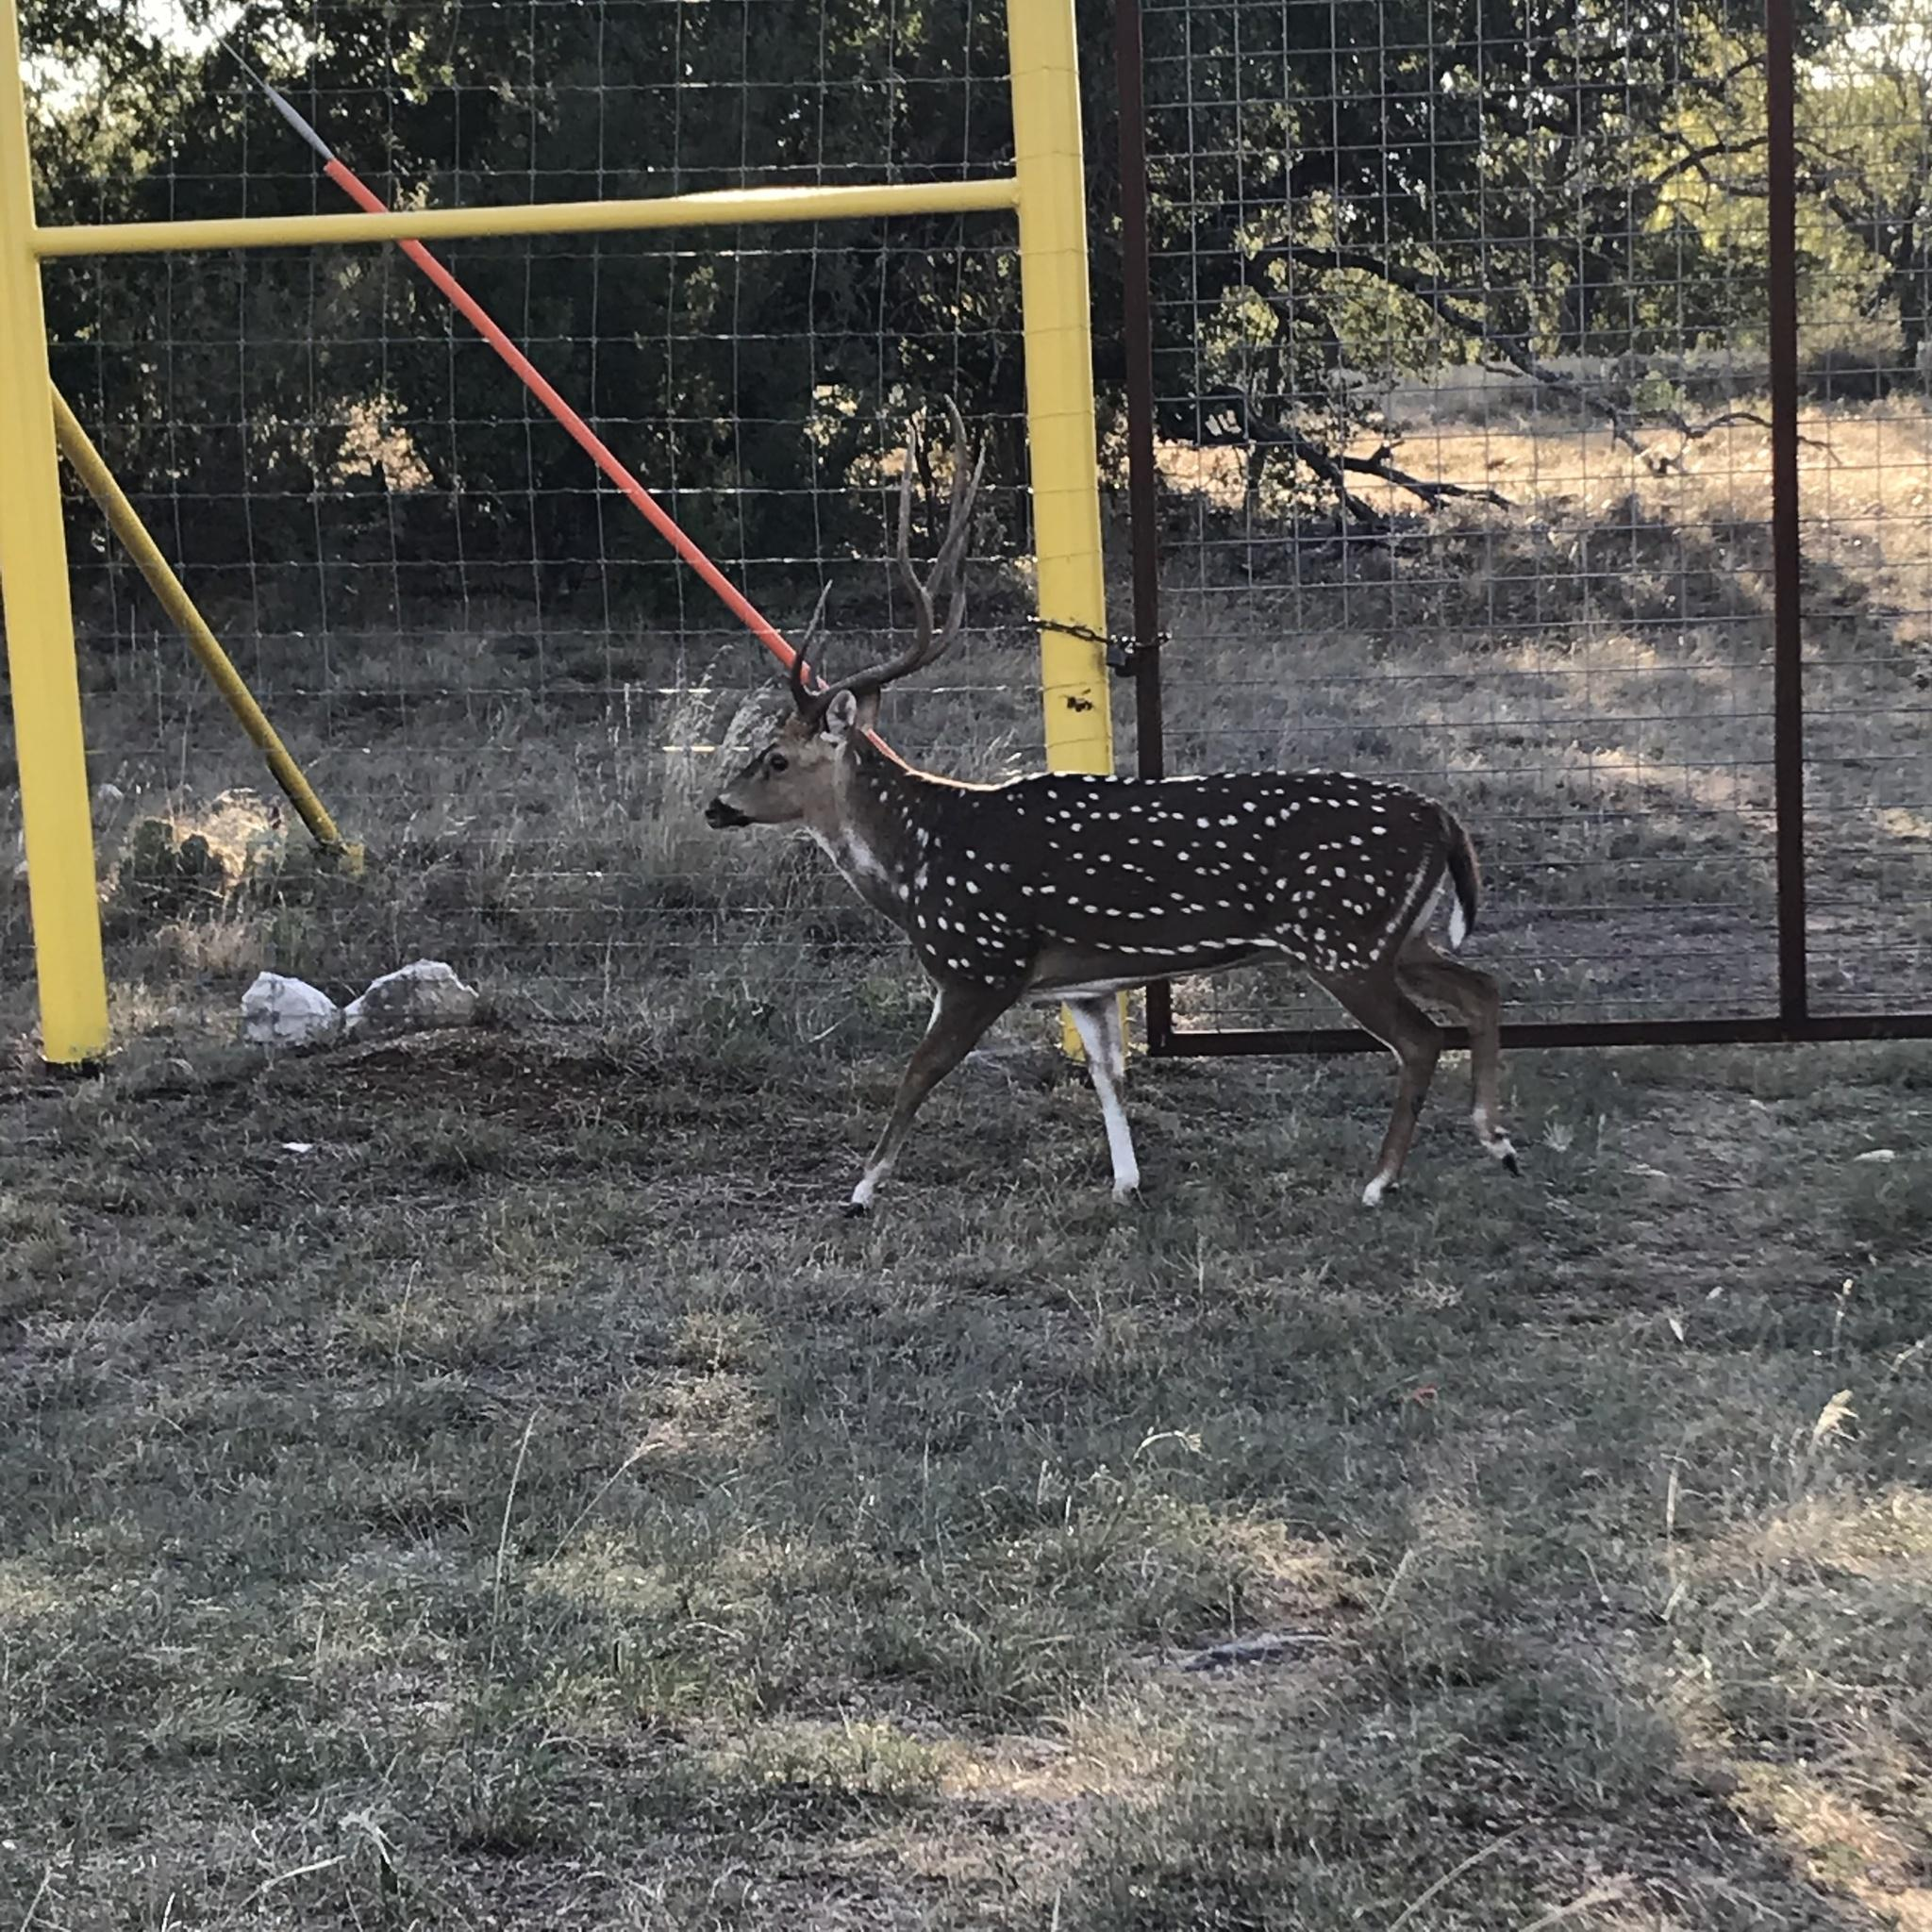Deer: (706, 402, 1514, 1214)
